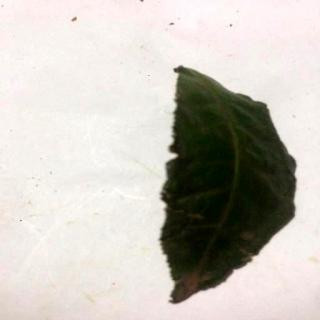Red Leaf Spot: (161, 66, 295, 305)
